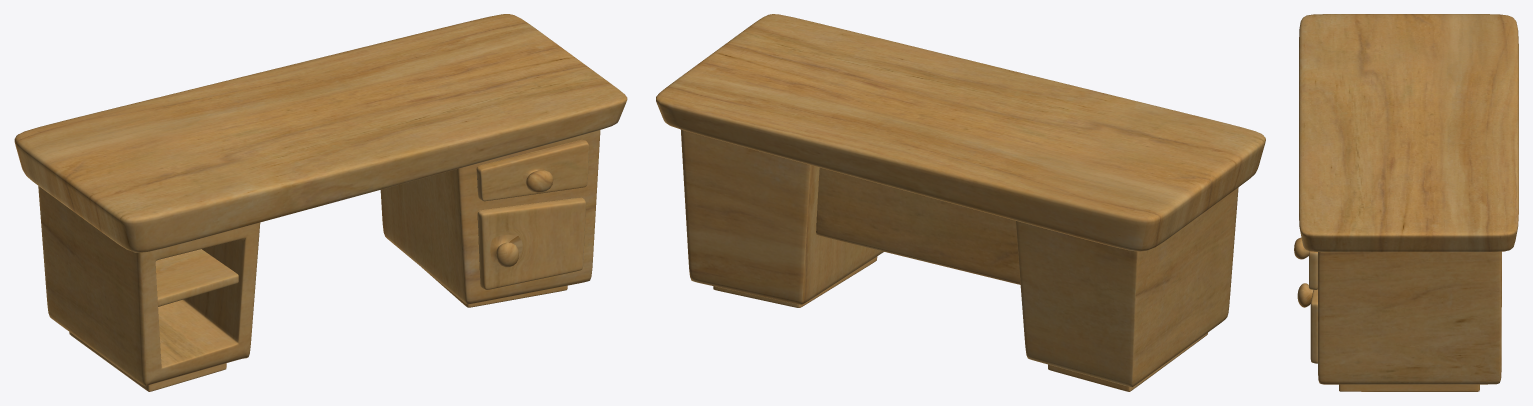
The model's file is _abledesk.fbx.
3 views of the same model, side by side, from view 1: azimuth 30°, elevation 25°; view 2: azimuth 150°, elevation 25°; view 3: azimuth 270°, elevation 25° (orthographic). The views are drawn at different scales.
Visible parts, largest first — view 1: Cube.005; view 2: Cube.005; view 3: Cube.005.
Part boxes in pixels (left/top/right/bottom): Cube.005: left=14, top=14, right=627, bottom=391; Cube.005: left=656, top=14, right=1265, bottom=391; Cube.005: left=1294, top=14, right=1518, bottom=391.
Size of the model in its own units: 89.93 by 33.57 by 38.48.
